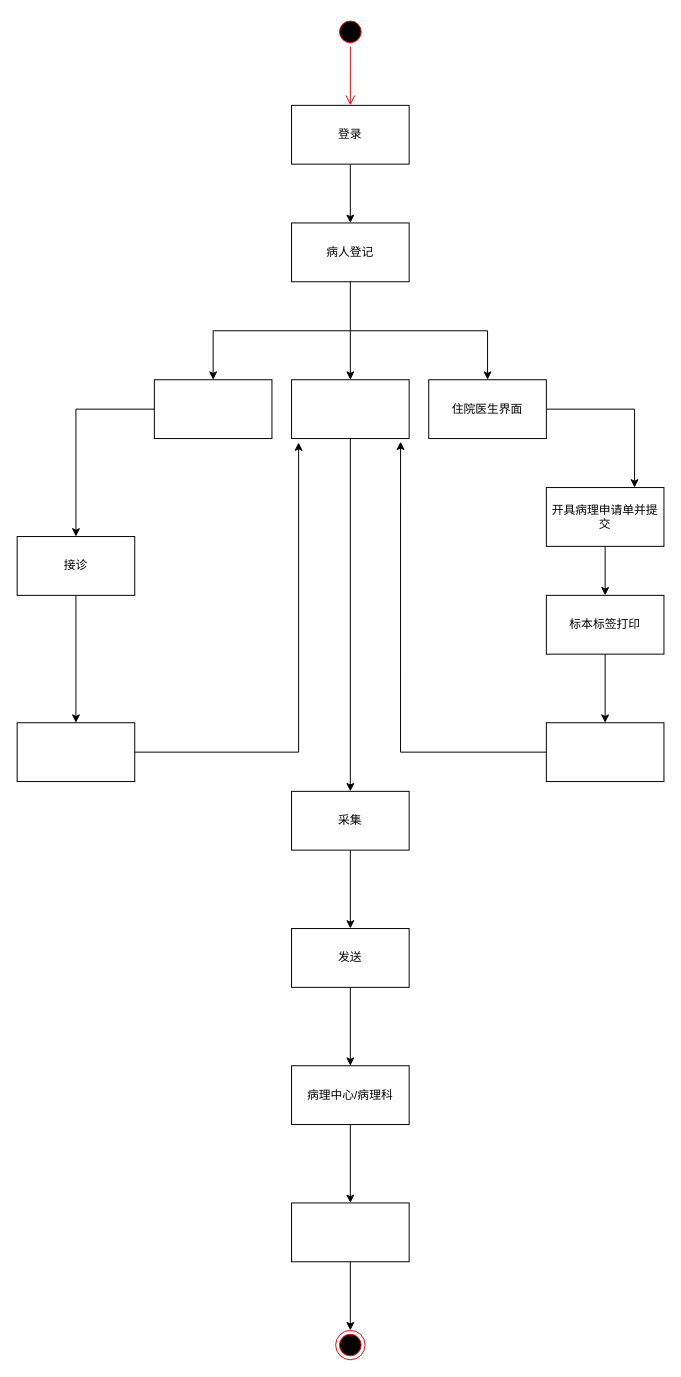
The diagram is 681 pixels wide and 1377 high, and some of its shapes have lost their labels. Each missing label, with the box of its shape:
开具病理申请单并复核: (16, 722, 135, 782)
标本采集: (545, 722, 664, 782)
生成报告返回: (291, 1202, 409, 1262)
采集工作站: (291, 379, 409, 439)
门诊医生界面: (153, 379, 272, 439)
